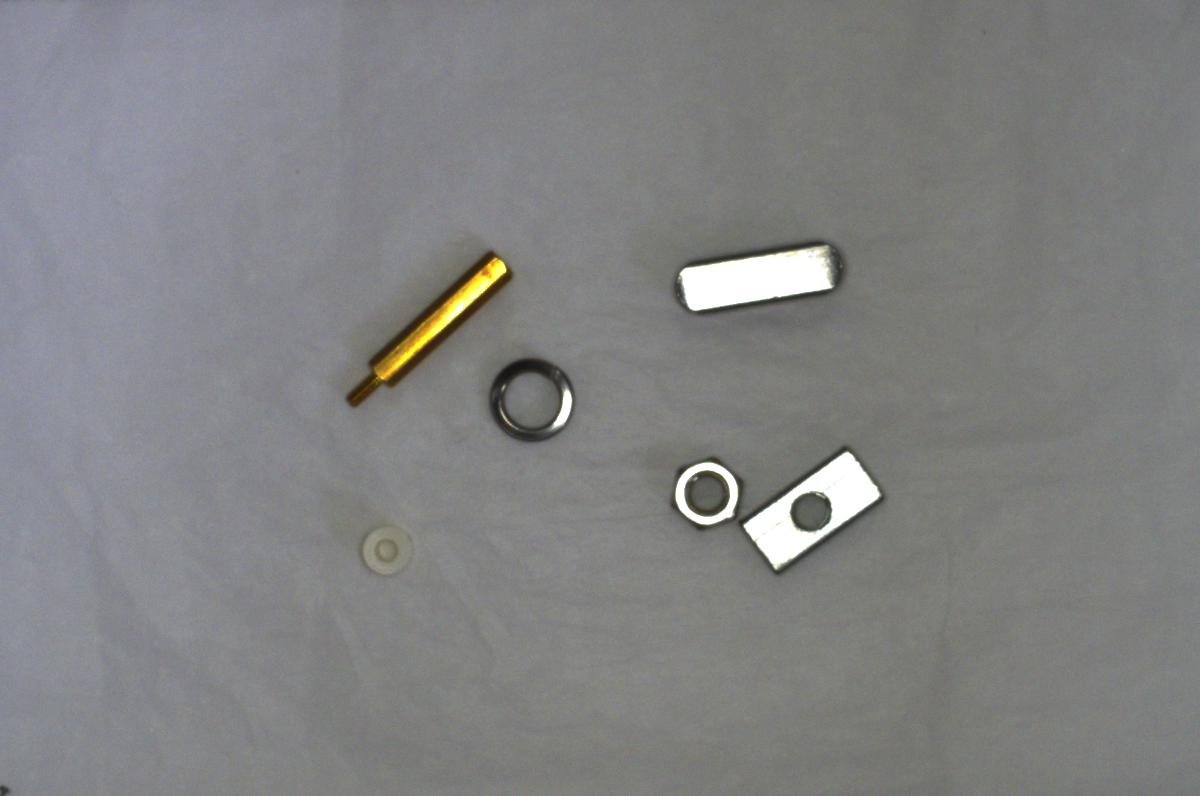Hexagon nut: (652, 445, 742, 535)
Hexagon pillar: (344, 239, 514, 405)
Keybar: (672, 235, 850, 321)
Plastic cushion pillar: (355, 519, 415, 586)
Rectangular nut: (739, 443, 887, 578)
Spring washer: (482, 353, 574, 445)
